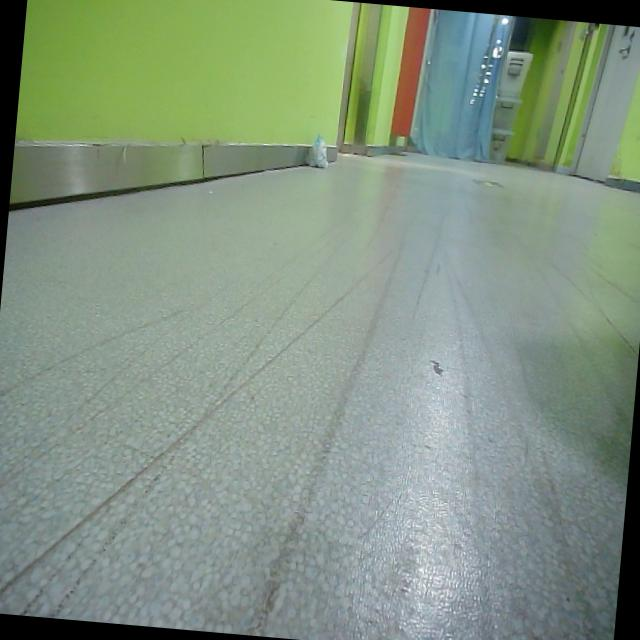xiaoba: (306, 128, 334, 172)
